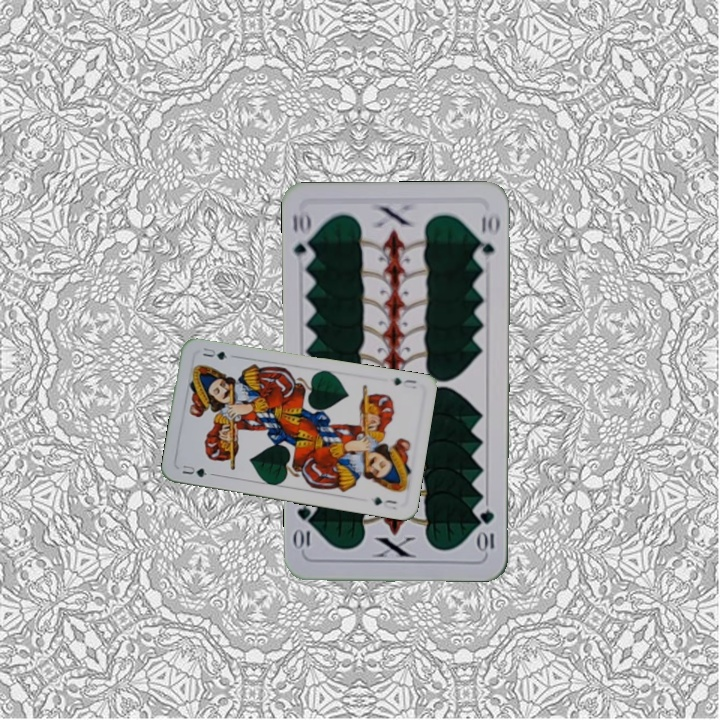G10: (288, 207, 316, 266), (476, 506, 497, 554)
GU: (178, 461, 209, 480), (389, 373, 419, 392)
